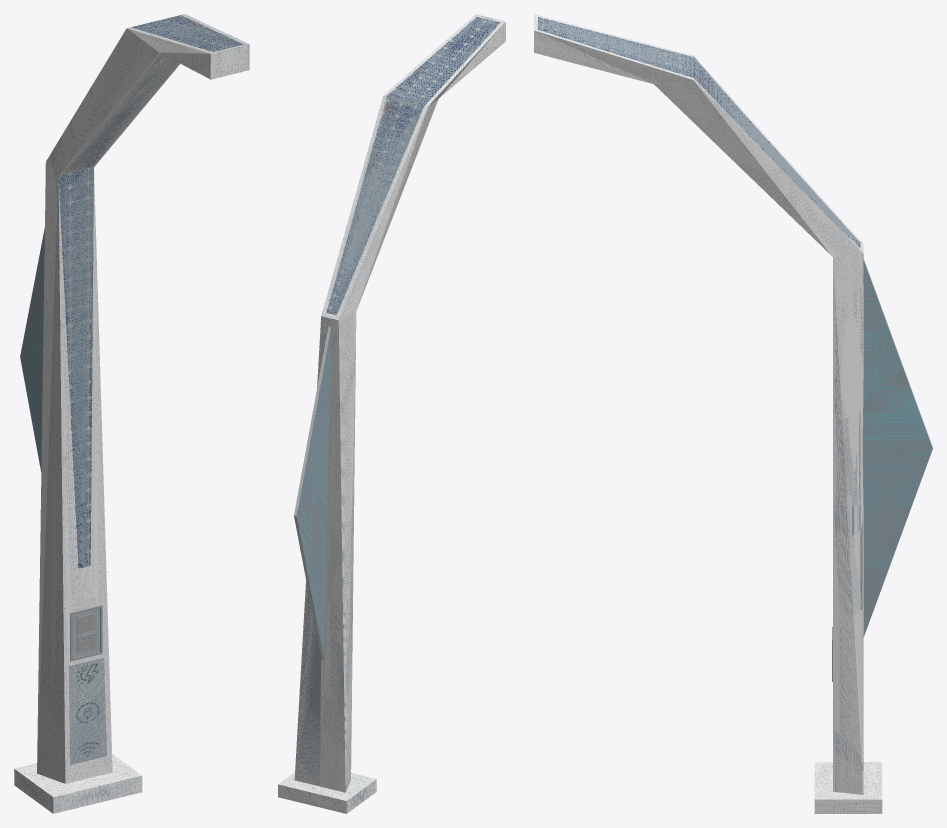
Rendered from Solar Tree.fbx.
3 renders of one model, left to right at view 1: azimuth 30°, elevation 25°; view 2: azimuth 150°, elevation 25°; view 3: azimuth 270°, elevation 25°, orthographic. The views are drawn at different scales.
Parts seen in each view (by area): view 1: Group1, Group2; view 2: Group1; view 3: Group1.
Part boxes in pixels (x1,y1,x2,y2): Group1: [14, 14, 249, 813]; Group2: [70, 605, 102, 661]; Group1: [278, 14, 505, 813]; Group1: [534, 14, 932, 813].
Size of the model in its own units: 114 by 1024 by 487.
